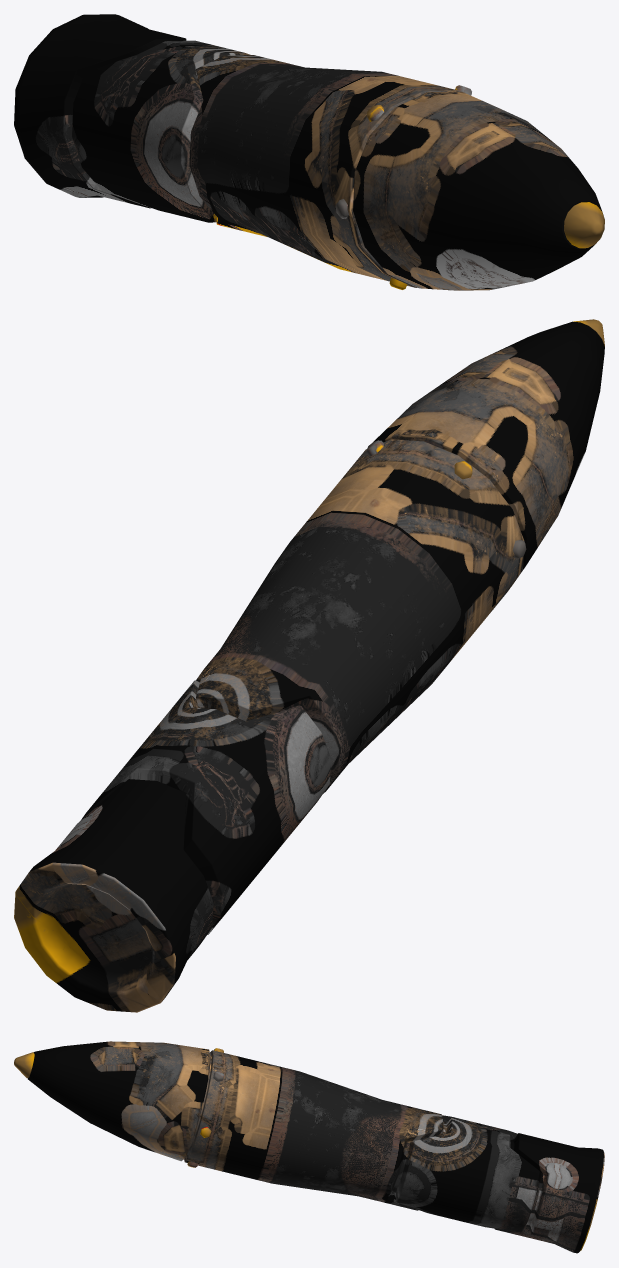
The model's file is bullet.fbx.
The picture shows the model from 3 angles, top to bottom: view 1: azimuth 30°, elevation 25°; view 2: azimuth 150°, elevation 25°; view 3: azimuth 270°, elevation 25°; orthographic projection. The views are drawn at different scales.
Visible parts, largest first — view 1: Cylinder.337; view 2: Cylinder.337; view 3: Cylinder.337.
Boxes of the visible parts, bbox=[...] form: Cylinder.337: bbox=[14, 14, 604, 290]; Cylinder.337: bbox=[14, 319, 604, 1012]; Cylinder.337: bbox=[14, 1041, 604, 1253].
Bounding box in the file's own units: 20.24 × 37.29 × 98.37.
